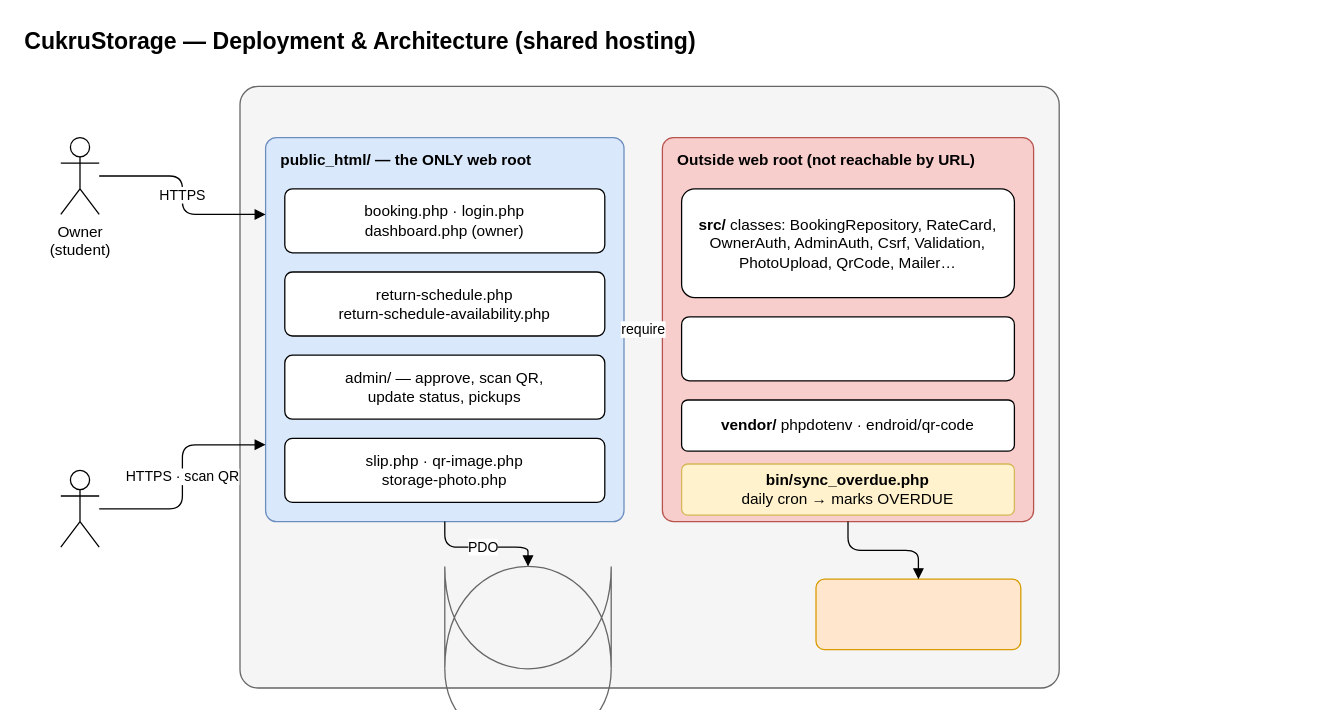
This 1324x710 diagram has some shape labels left out. The box of each missing label's shape, as (x1, y1, x2, y2) in pixels:
Admin / team (phone camera): (60, 469, 99, 547)
config/ + .env DB credentials, APP_SECRET: (680, 316, 1014, 381)
Email slip & return schedule: (815, 578, 1021, 650)
Hostinger shared hosting (cPanel): (239, 85, 1059, 688)
MySQL 8 tables: (444, 565, 611, 669)
